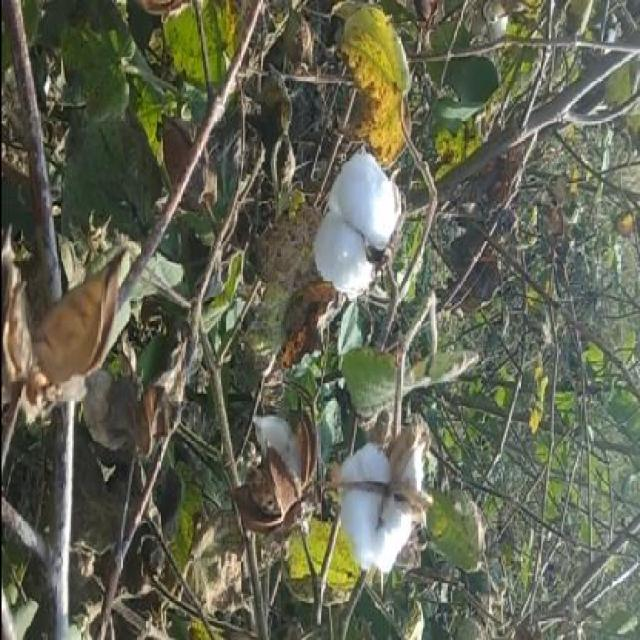cotton_ready: (314, 394, 434, 588), (306, 121, 411, 322)
